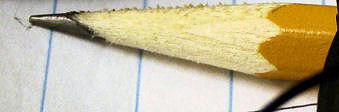pen_tip: (15, 2, 303, 85)
